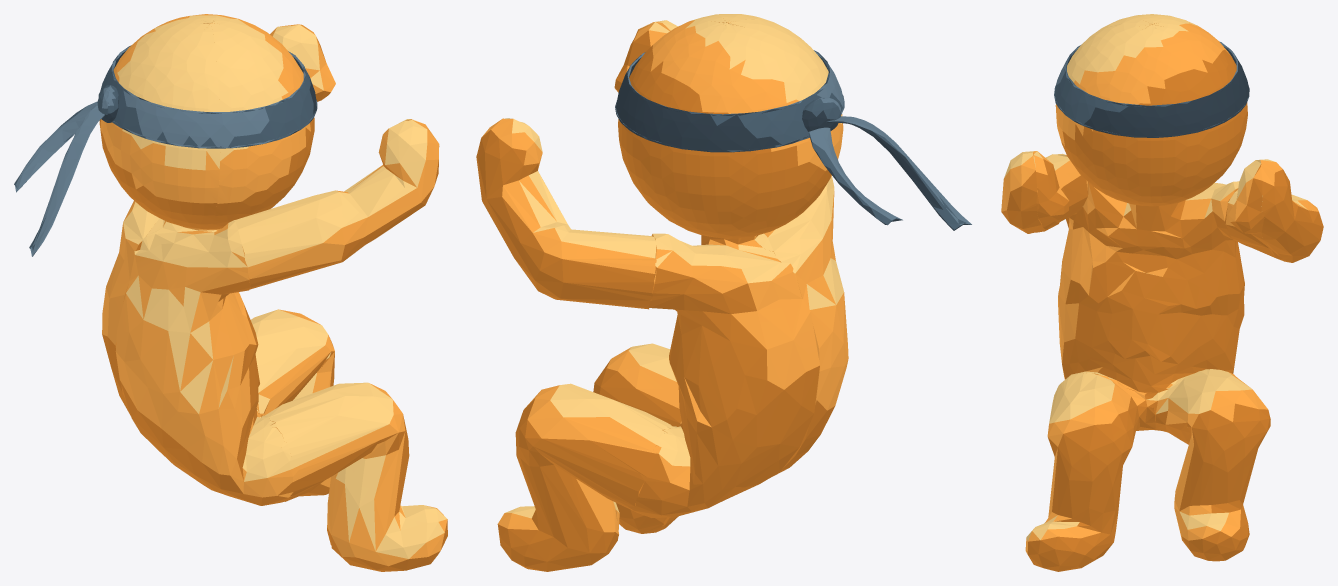
Rendered from Ninja_Air0_R.gltf.
3 views of the same model, side by side, from view 1: azimuth 30°, elevation 25°; view 2: azimuth 150°, elevation 25°; view 3: azimuth 270°, elevation 25° (orthographic). The views are drawn at different scales.
Parts seen in each view (by area): view 1: Ninja_Air0_R_baked; view 2: Ninja_Air0_R_baked; view 3: Ninja_Air0_R_baked.
Part boxes in pixels (x1,y1,x2,y2): Ninja_Air0_R_baked: (14,14,447,571); Ninja_Air0_R_baked: (476,14,971,571); Ninja_Air0_R_baked: (1001,14,1323,571).
Bounding box in the file's own units: 0.7431 × 1 × 0.6032.
